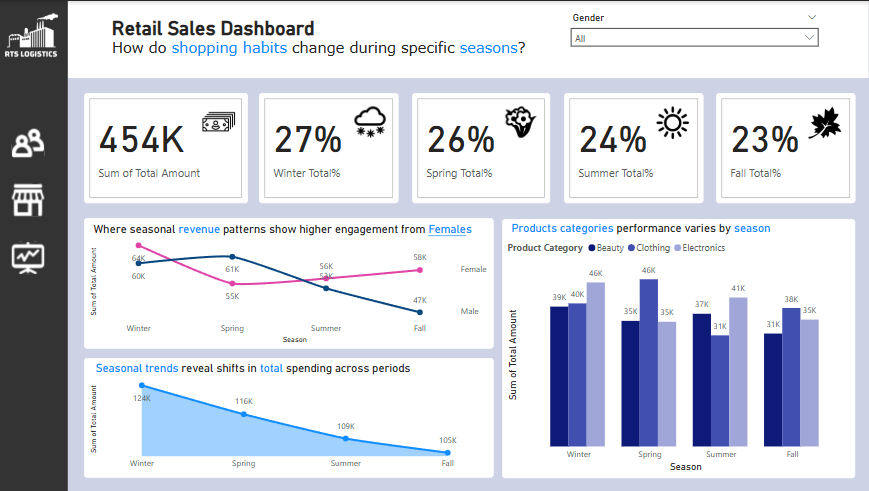

The page's visual inventory and layout, read from the dashboard file:
{"tool":"powerbi","page":{"name":"Shoping habits by season","canvas":[1280,720],"ordinal":1},"visuals":[{"type":"textbox","box":[104.3,0,1175.5,113.1],"z":0},{"type":"clusteredColumnChart","title":"   ","fields":{"Category":["retail_sales_dataset.Season"],"Series":["retail_sales_dataset.Product Category"],"Y":["Sum(retail_sales_dataset.Total Amount)"]},"box":[742,320.3,518.7,380.6],"z":1000},{"type":"lineChart","title":"  ","fields":{"Y":["Sum(retail_sales_dataset.Total Amount)"],"Series":["retail_sales_dataset.Gender"],"Category":["retail_sales_dataset.Season"]},"box":[127.8,318.9,602.4,192.5],"z":2000},{"type":"cardVisual","fields":{"Data":["Measure Table.ΔSpring Total Revenue%"]},"box":[610.1,135,203.4,162.3],"z":3000},{"type":"cardVisual","fields":{"Data":["Measure Table.ΔWinter Total Revenue%"]},"box":[384.5,135,205.1,162.3],"z":4000},{"type":"cardVisual","fields":{"Data":["Measure Table.ΔSummer Total Revenue%"]},"box":[833.1,135,205,162.3],"z":5000},{"type":"cardVisual","fields":{"Data":["Measure Table.ΔFall Total Revenue%"]},"box":[1056.1,135,205.1,162.3],"z":6000},{"type":"cardVisual","fields":{"Data":["Sum(retail_sales_dataset.Total Amount)"]},"box":[128.2,135,241,162.3],"z":7000},{"type":"lineChart","title":"  ","fields":{"Category":["retail_sales_dataset.Season"],"Y":["Sum(retail_sales_dataset.Total Amount)"]},"box":[127.8,524.6,602.4,176.3],"z":8000},{"type":"image","box":[1187.7,150.4,58.1,58],"z":9000},{"type":"image","box":[519.5,150.4,56.4,56.4],"z":10000},{"type":"image","box":[741.7,150.4,56.4,56.4],"z":11000},{"type":"image","box":[963.8,150.4,58.1,58.1],"z":12000},{"type":"image","box":[297.4,148.7,58.1,58.1],"z":13000},{"type":"textbox","box":[127.8,320.3,684.7,39.7],"z":14000},{"type":"textbox","box":[742,318.9,520.2,41.1],"z":15000},{"type":"slicer","fields":{"Values":["retail_sales_dataset.Gender"]},"box":[833.1,11.8,383.5,101.4],"z":16000},{"type":"textbox","box":[139.6,524.6,501.1,88.2],"z":17000},{"type":"shape","box":[-0.3,0,104.3,720],"z":18000},{"type":"actionButton","box":[17.6,180.7,67.6,55.8],"z":19000},{"type":"actionButton","box":[17.6,349.7,67.6,55.8],"z":20000},{"type":"actionButton","box":[17.6,264.5,67.6,55.8],"z":21000},{"type":"image","box":[2.9,0,95.5,99.9],"z":22000}]}

Visuals, with their boxes on the page's 1280x720 design canvas (x1, y1, x2, y2). These are canvas units, not pixel positions in the 869x491 screenshot, which may show the page scaled, cropped or inside an application window:
textbox: rect(104, 0, 1280, 113)
"   " clusteredColumnChart: rect(742, 320, 1261, 701)
"  " lineChart: rect(128, 319, 730, 511)
cardVisual - Measure Table.ΔSpring Total Revenue%: rect(610, 135, 814, 297)
cardVisual - Measure Table.ΔWinter Total Revenue%: rect(384, 135, 590, 297)
cardVisual - Measure Table.ΔSummer Total Revenue%: rect(833, 135, 1038, 297)
cardVisual - Measure Table.ΔFall Total Revenue%: rect(1056, 135, 1261, 297)
cardVisual - Sum(retail_sales_dataset.Total Amount): rect(128, 135, 369, 297)
"  " lineChart: rect(128, 525, 730, 701)
image: rect(1188, 150, 1246, 208)
image: rect(520, 150, 576, 207)
image: rect(742, 150, 798, 207)
image: rect(964, 150, 1022, 208)
image: rect(297, 149, 356, 207)
textbox: rect(128, 320, 812, 360)
textbox: rect(742, 319, 1262, 360)
slicer - retail_sales_dataset.Gender: rect(833, 12, 1217, 113)
textbox: rect(140, 525, 641, 613)
shape: rect(0, 0, 104, 720)
actionButton: rect(18, 181, 85, 236)
actionButton: rect(18, 350, 85, 406)
actionButton: rect(18, 264, 85, 320)
image: rect(3, 0, 98, 100)
